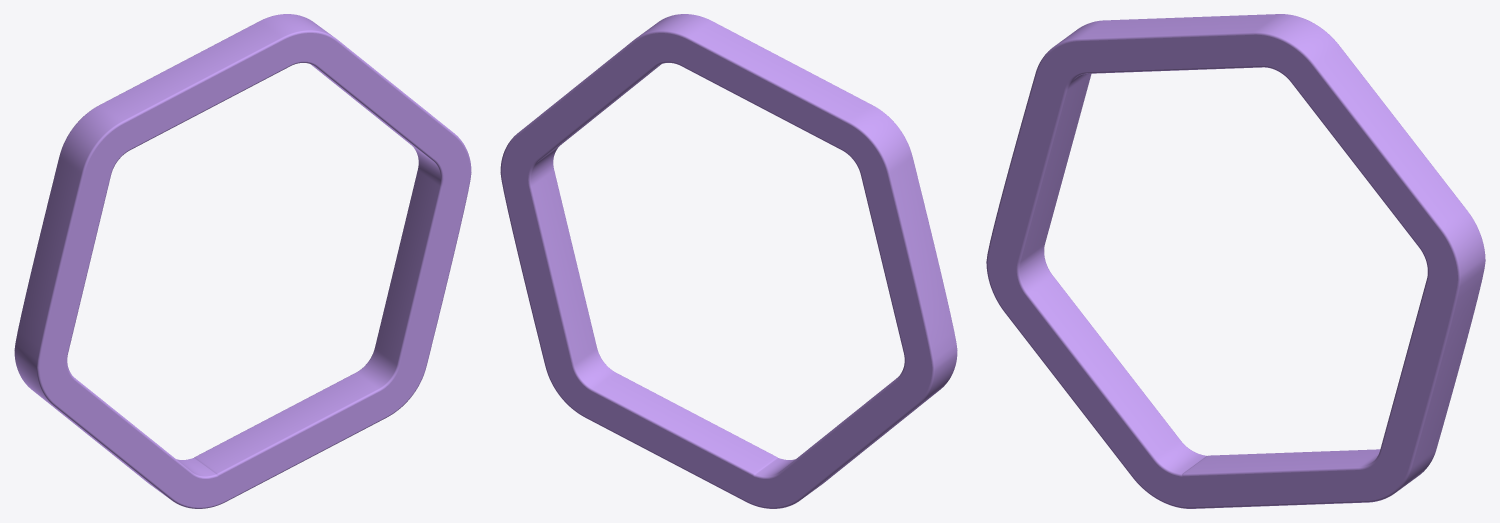
File: border.glb
3 views of the same model, side by side, from view 1: azimuth 30°, elevation 25°; view 2: azimuth 150°, elevation 25°; view 3: azimuth 330°, elevation 25° (orthographic). The views are drawn at different scales.
Parts seen in each view (by area): view 1: stroke; view 2: stroke; view 3: stroke.
Boxes of the visible parts, box(x1,y1,x2,y2) form: stroke: box(14, 14, 471, 508); stroke: box(500, 14, 957, 508); stroke: box(986, 14, 1485, 508).
Bounding box in the file's own units: 0.2286 × 0.2286 × 0.022.
